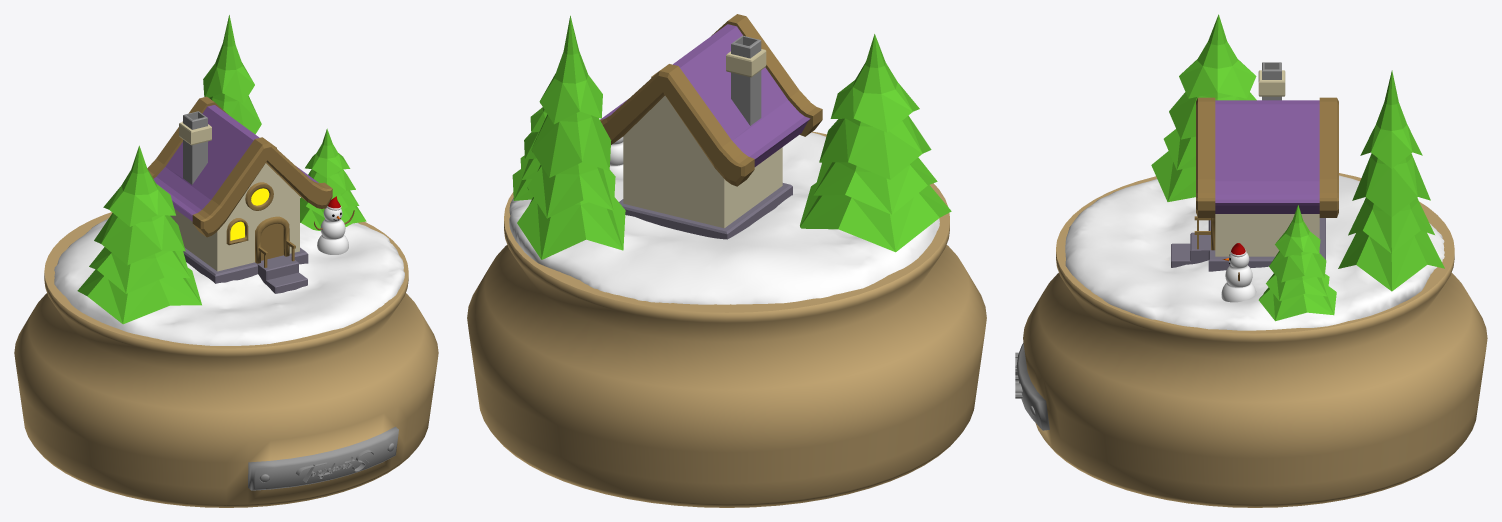
File: snowglobe.glb
The picture shows the model from 3 angles, left to right: view 1: azimuth 30°, elevation 25°; view 2: azimuth 150°, elevation 25°; view 3: azimuth 270°, elevation 25°; orthographic projection. The views are drawn at different scales.
Visible parts, largest first — view 1: Object_14, Object_18, Object_20, Object_15, Object_7, Object_8, Object_12, Object_4, Object_3, Object_13, Object_2, Object_10; view 2: Object_14, Object_20, Object_18, Object_7, Object_15, Object_8, Object_4, Object_3, Object_2; view 3: Object_14, Object_18, Object_20, Object_8, Object_15, Object_7, Object_4, Object_12, Object_2.
Part boxes in pixels (x1=…): Object_14: x1=14, y1=212, x2=438, y2=507; Object_18: x1=54, y1=197, x2=404, y2=345; Object_20: x1=77, y1=15, x2=366, y2=324; Object_15: x1=147, y1=96, x2=332, y2=267; Object_7: x1=170, y1=163, x2=299, y2=271; Object_8: x1=153, y1=105, x2=318, y2=221; Object_12: x1=248, y1=426, x2=398, y2=490; Object_4: x1=183, y1=247, x2=308, y2=293; Object_3: x1=183, y1=111, x2=207, y2=184; Object_13: x1=296, y1=449, x2=373, y2=482; Object_2: x1=179, y1=122, x2=211, y2=145; Object_10: x1=230, y1=188, x2=269, y2=240; Object_14: x1=467, y1=131, x2=986, y2=507; Object_20: x1=512, y1=15, x2=951, y2=259; Object_18: x1=509, y1=132, x2=939, y2=304; Object_7: x1=623, y1=96, x2=782, y2=228; Object_15: x1=600, y1=14, x2=822, y2=186; Object_8: x1=600, y1=24, x2=810, y2=166; Object_4: x1=619, y1=183, x2=792, y2=239; Object_3: x1=731, y1=35, x2=761, y2=125; Object_2: x1=726, y1=49, x2=766, y2=77; Object_14: x1=1023, y1=173, x2=1487, y2=507; Object_18: x1=1065, y1=175, x2=1444, y2=330; Object_20: x1=1151, y1=14, x2=1444, y2=321; Object_8: x1=1215, y1=100, x2=1319, y2=213; Object_15: x1=1194, y1=97, x2=1338, y2=250; Object_7: x1=1215, y1=214, x2=1319, y2=256; Object_4: x1=1171, y1=218, x2=1325, y2=271; Object_12: x1=1016, y1=342, x2=1049, y2=430; Object_2: x1=1258, y1=70, x2=1285, y2=96.
Size of what is drawn, in the model's own units: 5.03 by 4.56 by 5.12.
